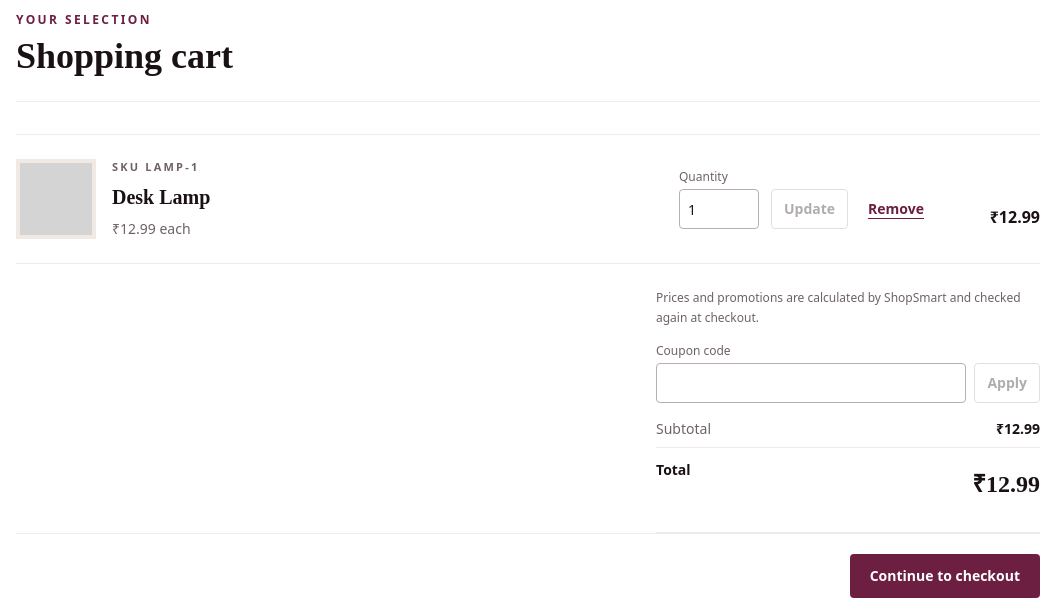
Test: CartPage › removes a cart item using the server response
The width and height of the screenshot is (1057, 615).
Click the button "Remove": (896, 209) x1=860 y1=189 x2=932 y2=229
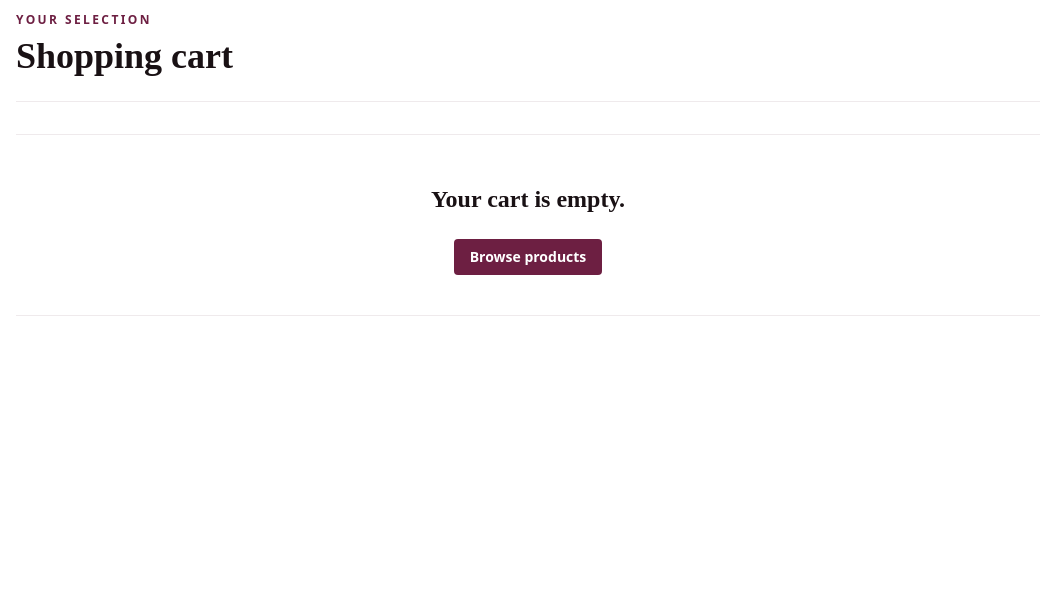
Result: the text "Your cart is empty." is shown at x1=431 y1=186 x2=625 y2=212
